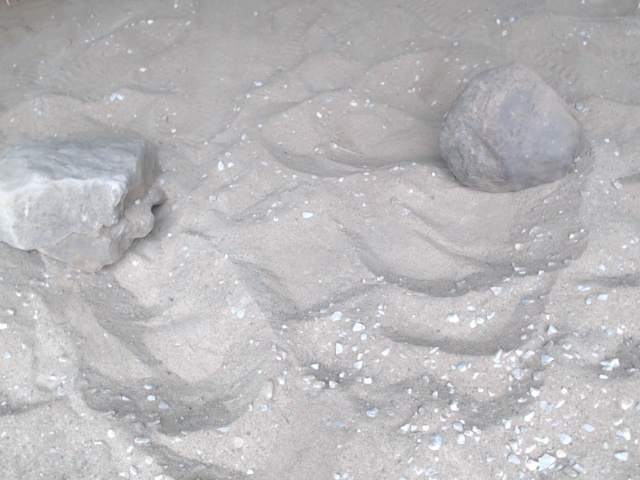rock: (1, 130, 173, 277), (434, 60, 584, 200)
